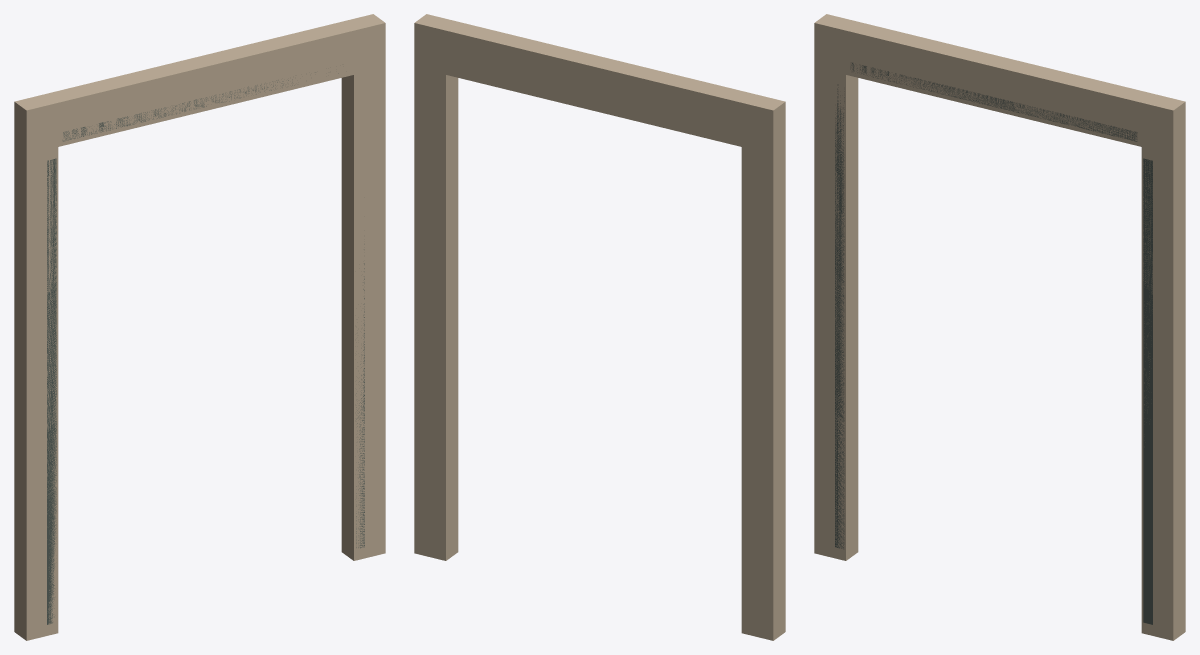
3 renders of one model, left to right at view 1: azimuth 30°, elevation 25°; view 2: azimuth 150°, elevation 25°; view 3: azimuth 330°, elevation 25°, orthographic.
Visible parts, largest first — view 1: right-jamb, header, left-jamb, left-trim, top-trim, right-trim; view 2: left-jamb, right-jamb, header; view 3: left-jamb, header, right-jamb, right-trim, left-trim, top-trim.
Boxes of the visible parts, x1,y1,x2,y2 form: right-jamb: (341, 67, 385, 560); header: (14, 14, 385, 154); left-jamb: (14, 146, 58, 640); left-trim: (47, 158, 56, 624); top-trim: (62, 72, 338, 141); right-trim: (356, 244, 364, 548); left-jamb: (741, 146, 785, 640); right-jamb: (414, 67, 458, 560); header: (414, 14, 785, 154); left-jamb: (814, 67, 858, 560); header: (814, 14, 1185, 154); right-jamb: (1141, 146, 1185, 640); right-trim: (1143, 158, 1152, 624); left-trim: (835, 84, 844, 549); top-trim: (850, 62, 1137, 141).
Bounding box in the file's own units: 1.7 × 2.4 × 0.1.
